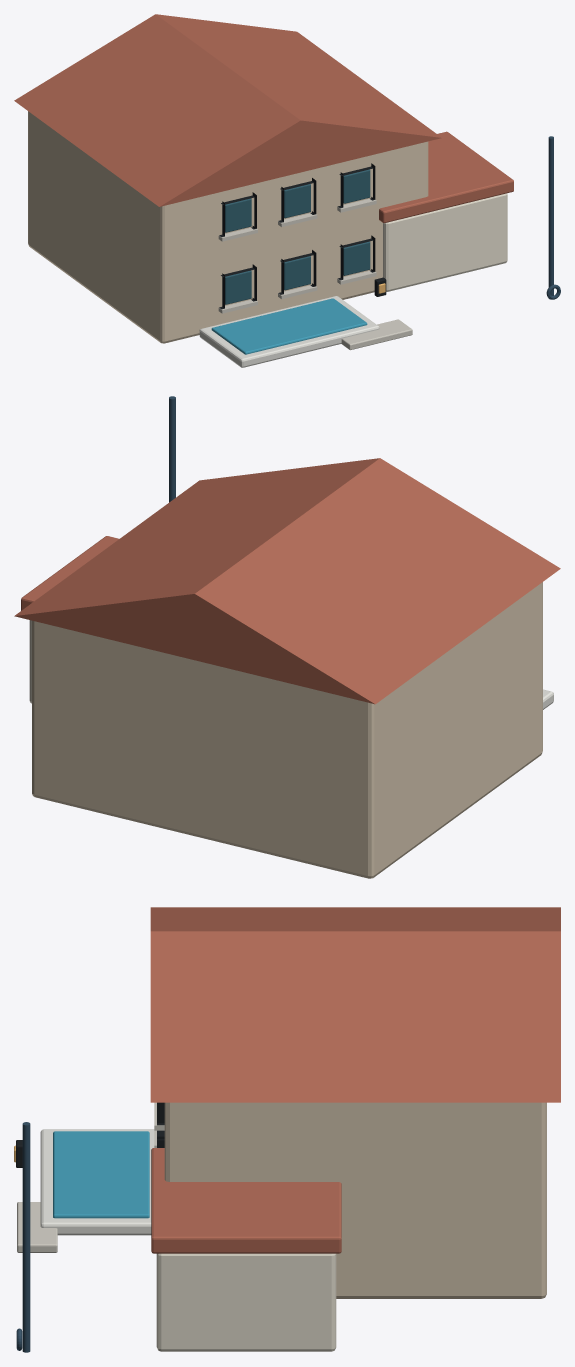
The model's file is RES_LUX_2x2_001.glb.
The picture shows the model from 3 angles, top to bottom: view 1: azimuth 30°, elevation 25°; view 2: azimuth 150°, elevation 25°; view 3: azimuth 270°, elevation 25°; orthographic projection. The views are drawn at different scales.
Visible parts, largest first — view 1: RES_LUX_2x2_001_Visual; view 2: RES_LUX_2x2_001_Visual; view 3: RES_LUX_2x2_001_Visual.
Boxes of the visible parts, x1,y1,x2,y2 form: RES_LUX_2x2_001_Visual: [14, 14, 560, 367]; RES_LUX_2x2_001_Visual: [14, 396, 560, 878]; RES_LUX_2x2_001_Visual: [14, 907, 560, 1352].
Size of what is drawn, in the model's own units: 3.72 by 1.96 by 3.5.
